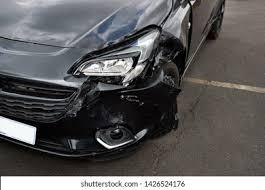Headlight-Damage: (70, 25, 164, 87)
fender-dent: (161, 14, 192, 104)
front-bumper-dent: (0, 83, 176, 156)
